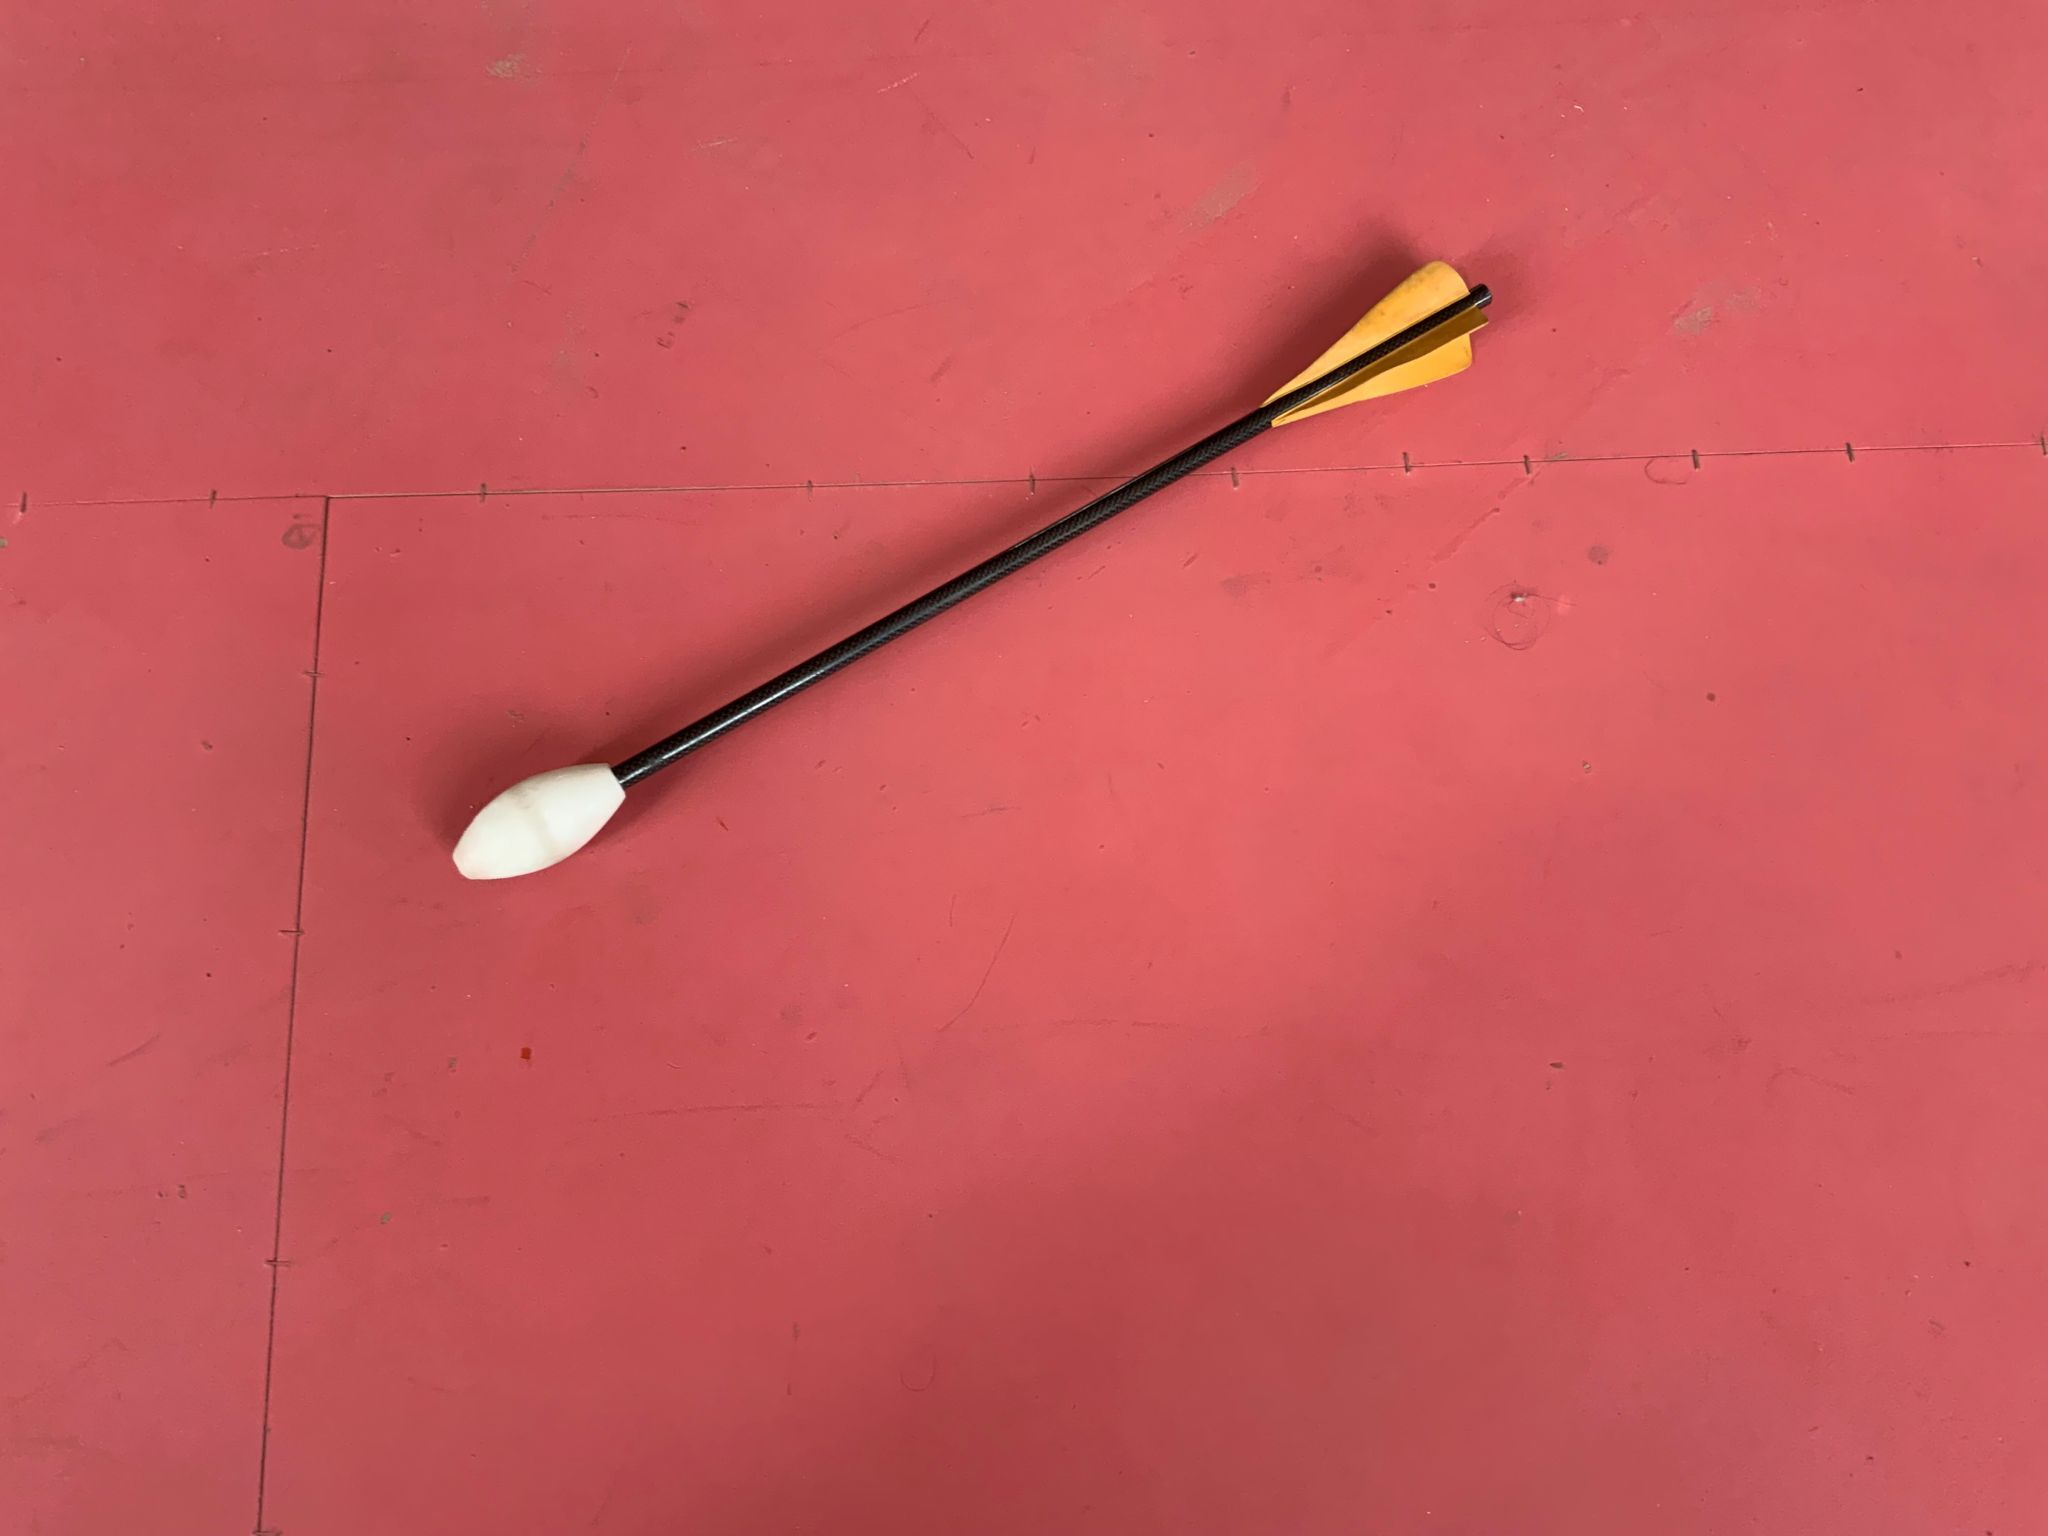arrow: (450, 261, 1495, 879)
arrowFront: (448, 757, 626, 881)
